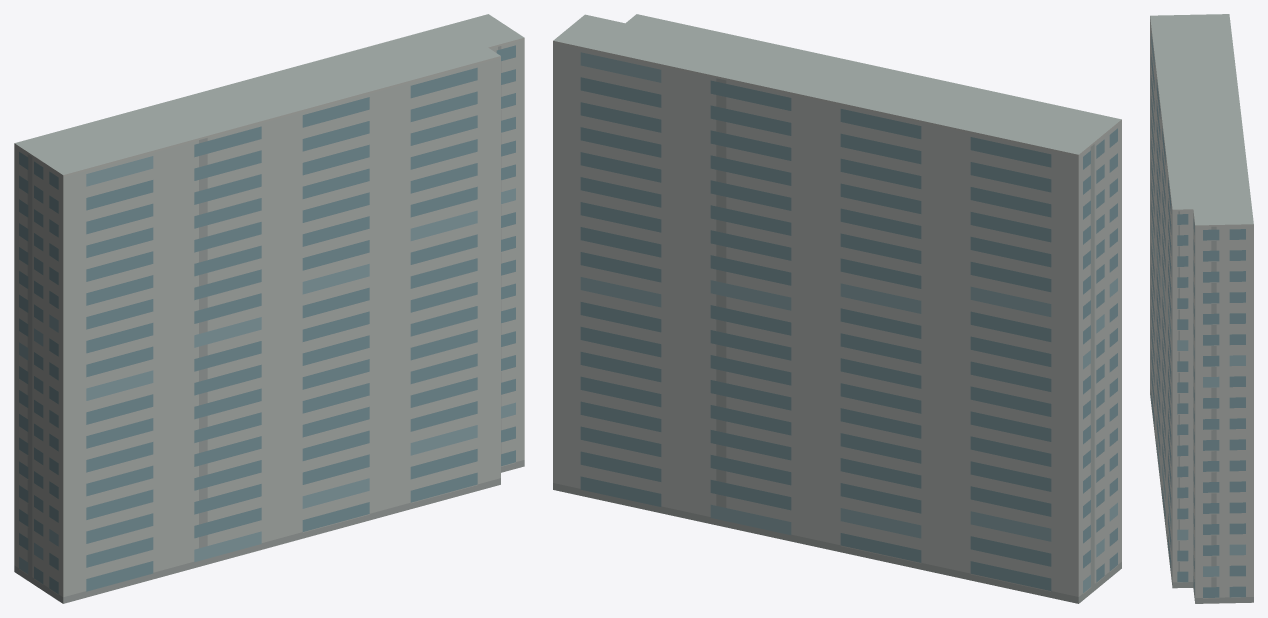
The model's file is residential-99e38df7-486a-4bfc-8aa1-93d13b76410a.glb.
3 renders of one model, left to right at view 1: azimuth 30°, elevation 25°; view 2: azimuth 150°, elevation 25°; view 3: azimuth 270°, elevation 25°, orthographic. The views are drawn at different scales.
Visible parts, largest first — view 1: residential-99e38df7-486a-4bfc-8aa1-93d13b76410a.tmp; view 2: residential-99e38df7-486a-4bfc-8aa1-93d13b76410a.tmp; view 3: residential-99e38df7-486a-4bfc-8aa1-93d13b76410a.tmp.
Boxes of the visible parts, box(x1,y1,x2,y2) form: residential-99e38df7-486a-4bfc-8aa1-93d13b76410a.tmp: box(14, 14, 524, 603); residential-99e38df7-486a-4bfc-8aa1-93d13b76410a.tmp: box(553, 14, 1121, 603); residential-99e38df7-486a-4bfc-8aa1-93d13b76410a.tmp: box(1150, 14, 1253, 603).
Bounding box in the file's own units: 64.69 × 54 × 13.44.
